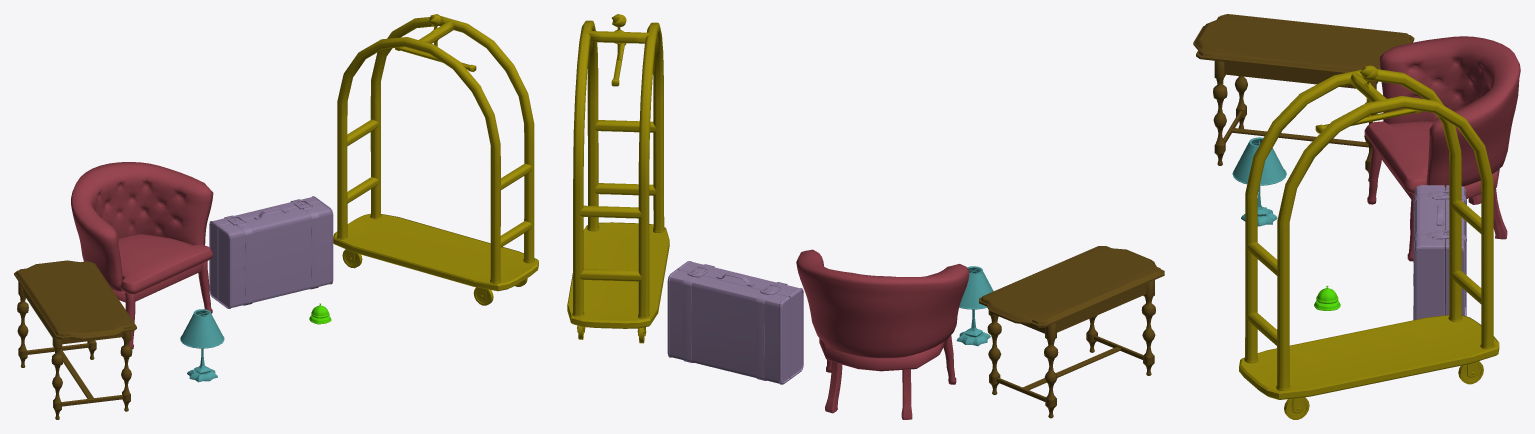
The model's file is 6 Props.fbx.
3 views of the same model, side by side, from view 1: azimuth 30°, elevation 25°; view 2: azimuth 150°, elevation 25°; view 3: azimuth 270°, elevation 25° (orthographic). The views are drawn at different scales.
Parts seen in each view (by area): view 1: Trolly, ChairShape, Suitcase, Table, Lamp; view 2: Trolly, ChairShape, Suitcase, Table, Lamp; view 3: Trolly, ChairShape, Table, Suitcase, Lamp, Bell.
Part boxes in pixels (x1,y1,x2,y2): Trolly: (333, 14, 538, 305); ChairShape: (71, 162, 213, 348); Suitcase: (209, 196, 333, 308); Table: (14, 260, 136, 419); Lamp: (180, 309, 224, 382); Trolly: (567, 14, 669, 343); ChairShape: (796, 249, 969, 419); Suitcase: (667, 261, 803, 384); Table: (979, 246, 1164, 418); Lamp: (956, 266, 993, 346); Trolly: (1239, 65, 1499, 419); ChairShape: (1364, 36, 1520, 261); Table: (1193, 14, 1414, 181); Suitcase: (1413, 185, 1466, 320); Lamp: (1232, 137, 1286, 226); Bell: (1314, 285, 1340, 310).
Size of the model in its own units: 491 by 246 by 226.
